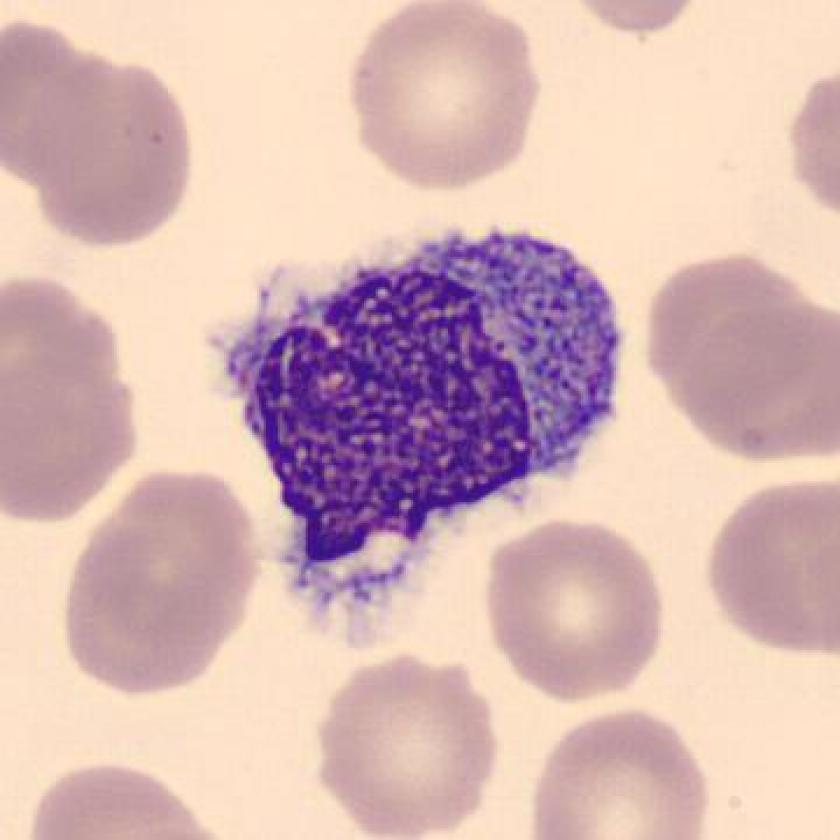monocyte: (192, 216, 652, 658)
